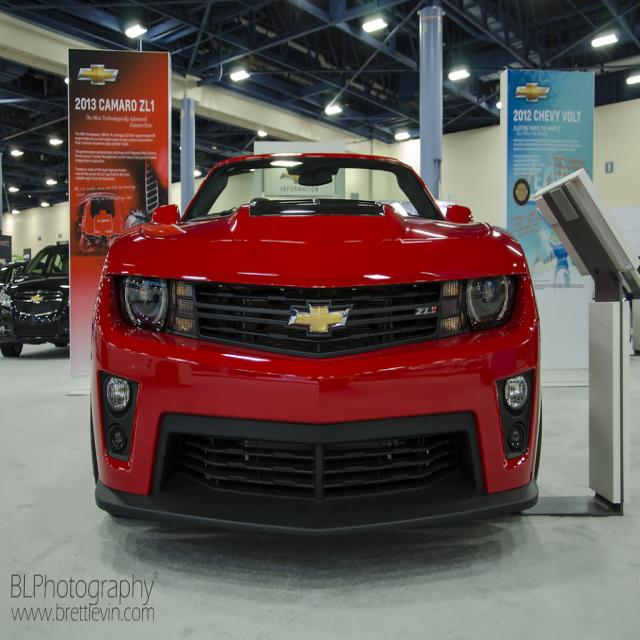car: (87, 132, 524, 538)
